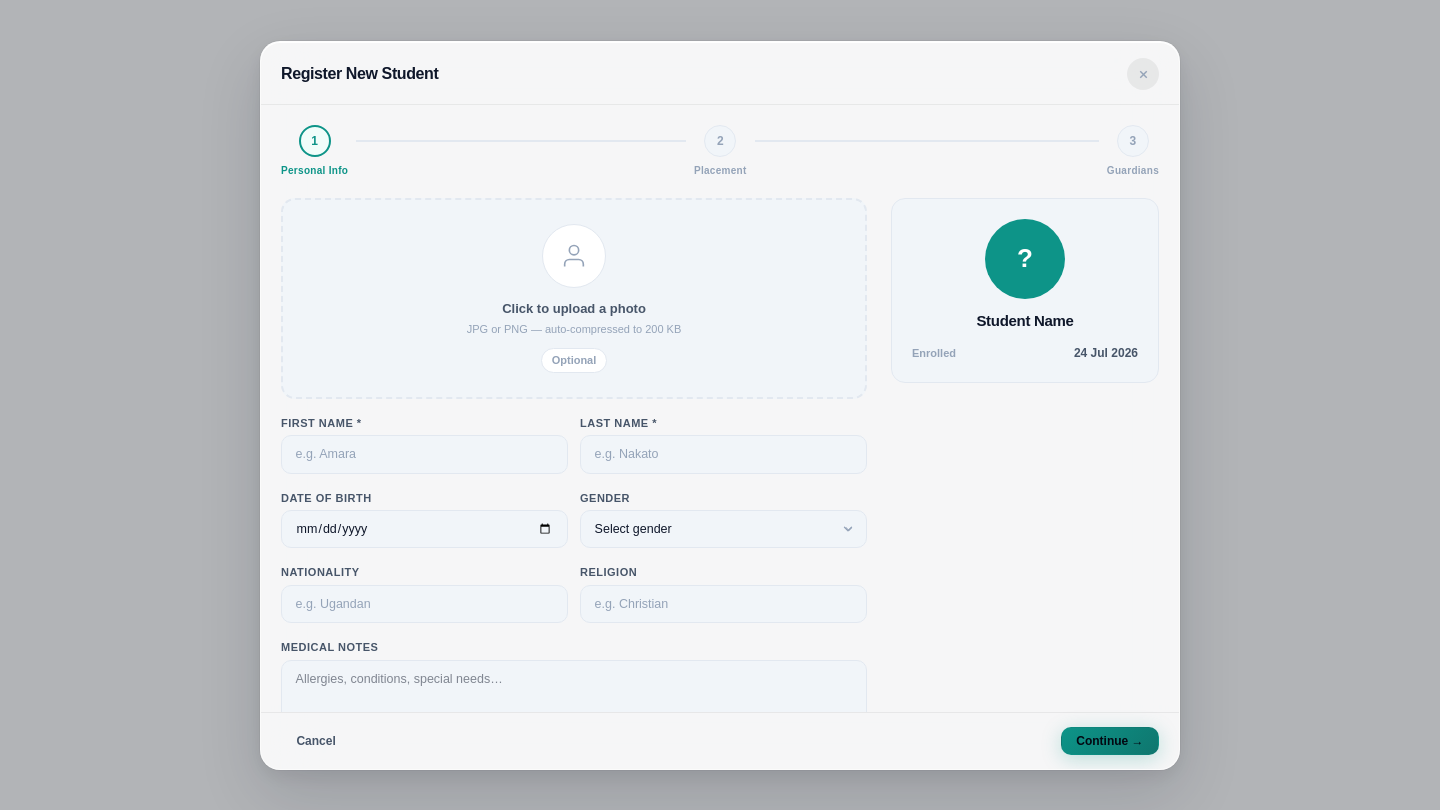
Test: StudentRegistrationWizard › filling step 1 and clicking Next advances to step 2
In the field labelled "First Name *": (424, 454) [281,435,568,473], type "Alice"
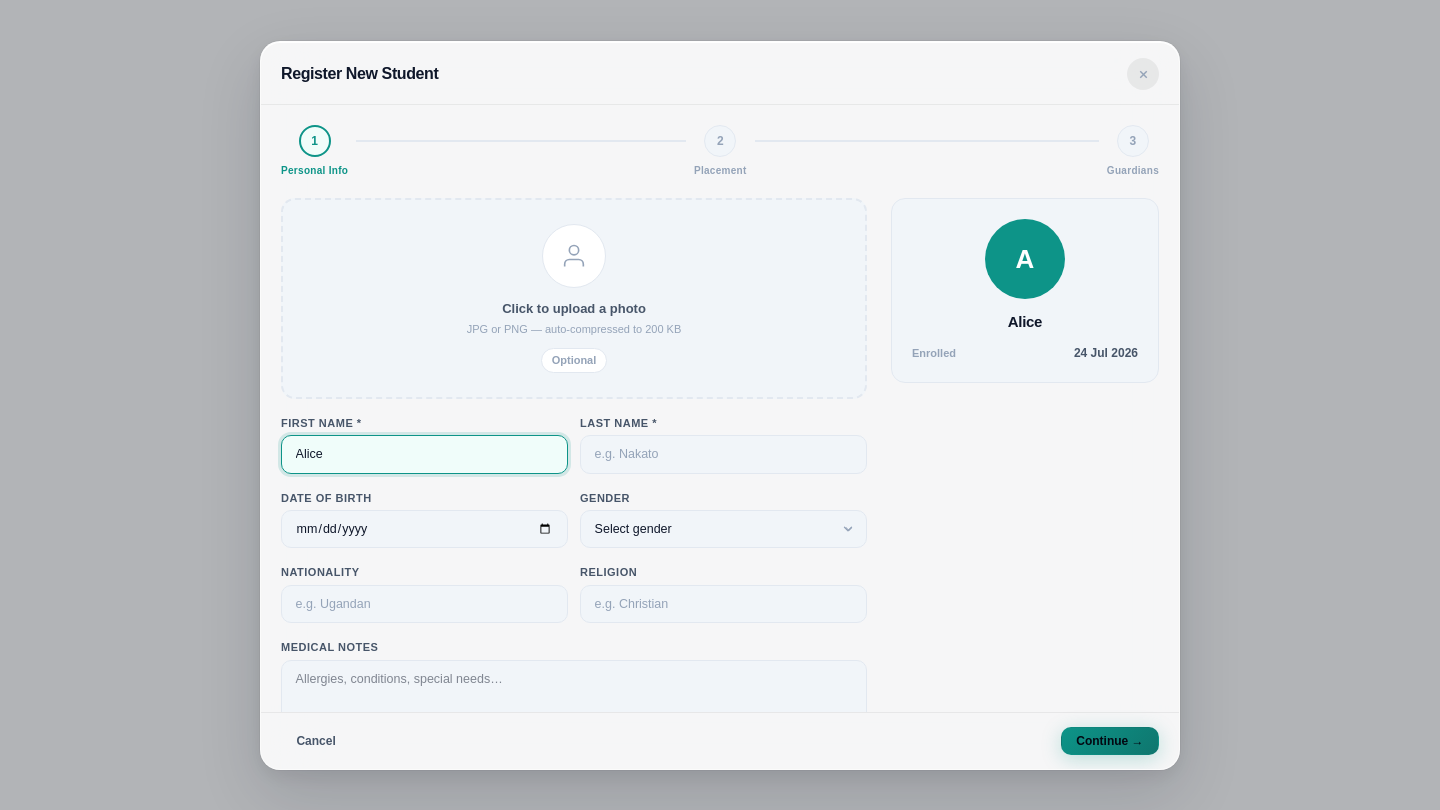
In the field labelled "Last Name *": (724, 454) [580,435,867,473], type "Nakato"
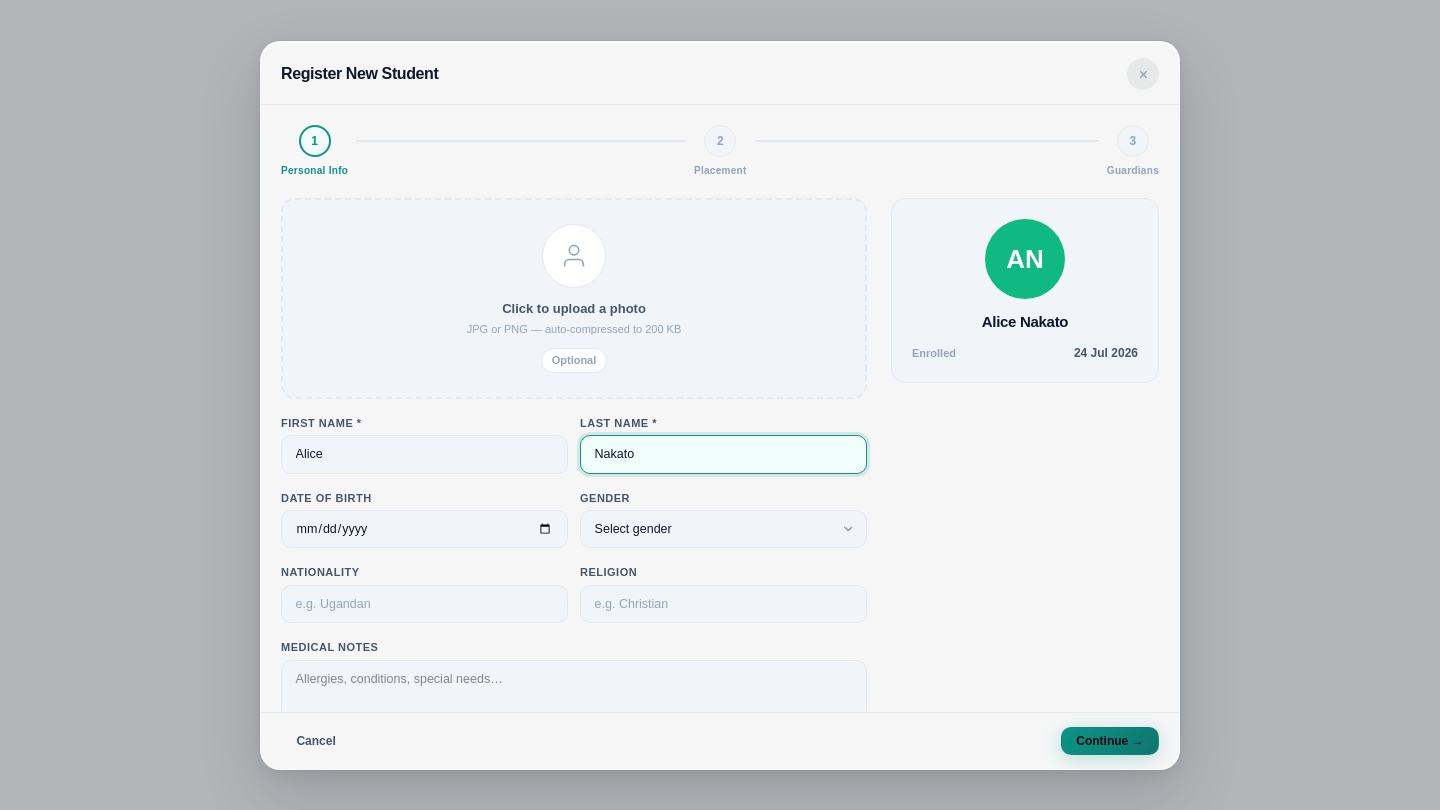
Click the button "Continue →": (1110, 740) [1061,727,1159,754]
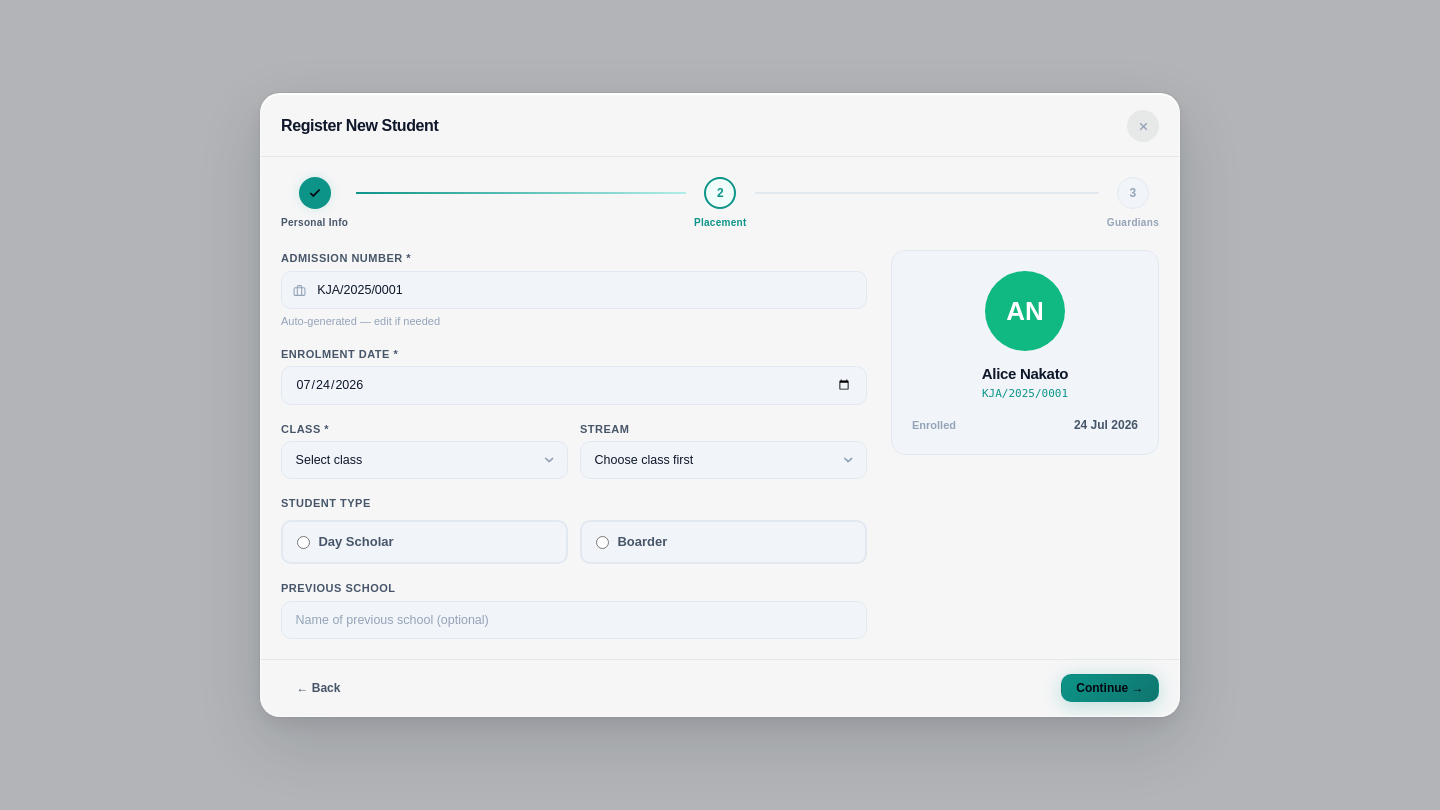
expect the field labelled "Admission Number *" is shown: met, box [281,271,867,309]
